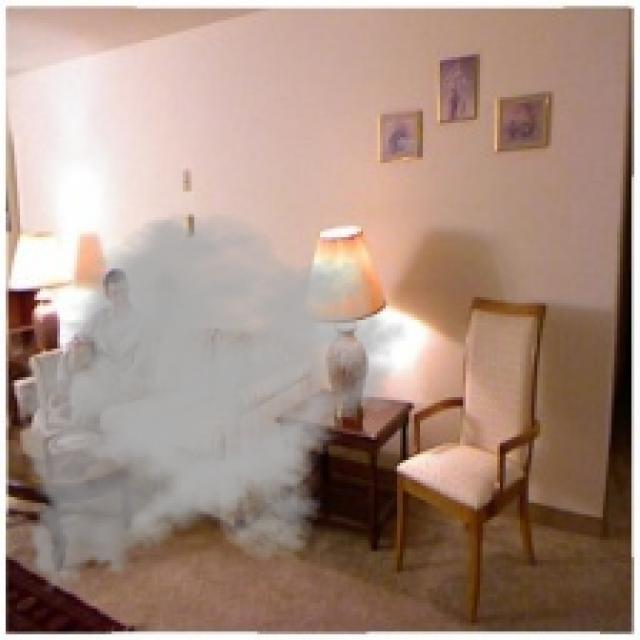Smoke: (6, 211, 408, 600)
